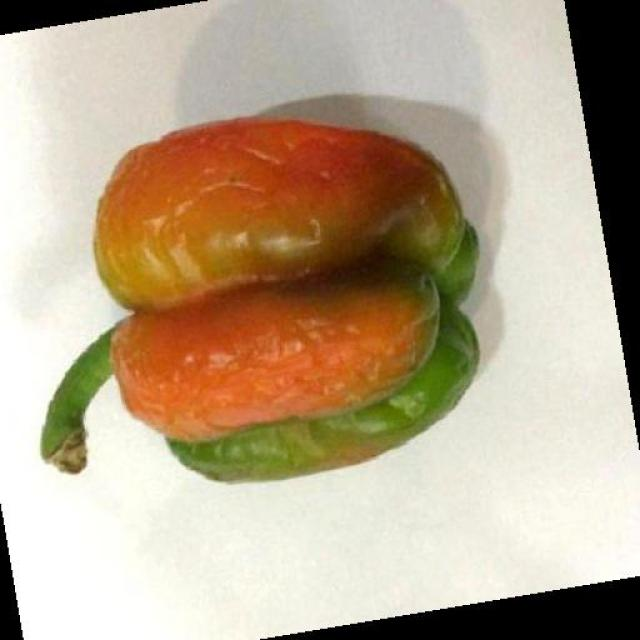Stale_Capsicum: (93, 104, 530, 484)
